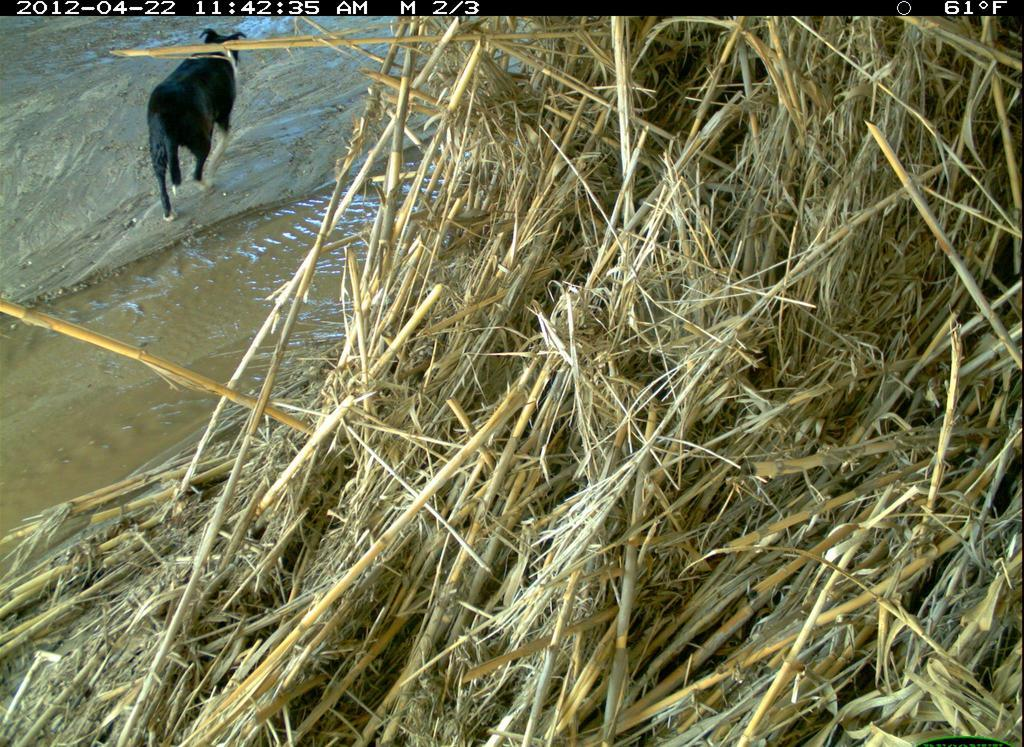dog: (131, 24, 262, 235)
